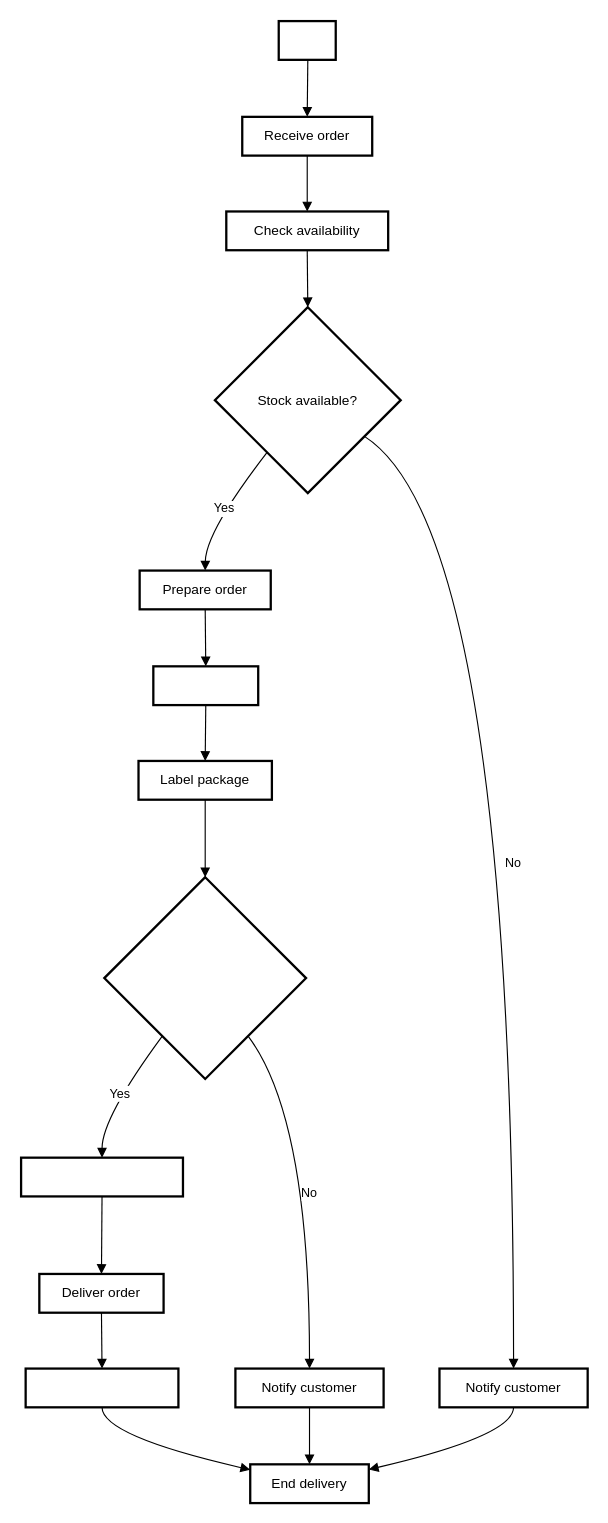
The diagram is 608 pixels wide and 1523 high, and some of its shapes have lost their labels. The box of each missing label's shape, as (x1, y1, x2, y2) in pixels:
Courier available?: (103, 876, 307, 1080)
Obtain signature: (24, 1367, 179, 1408)
Pack order: (152, 665, 259, 706)
Schedule delivery: (19, 1156, 184, 1197)
Start: (277, 19, 336, 60)
